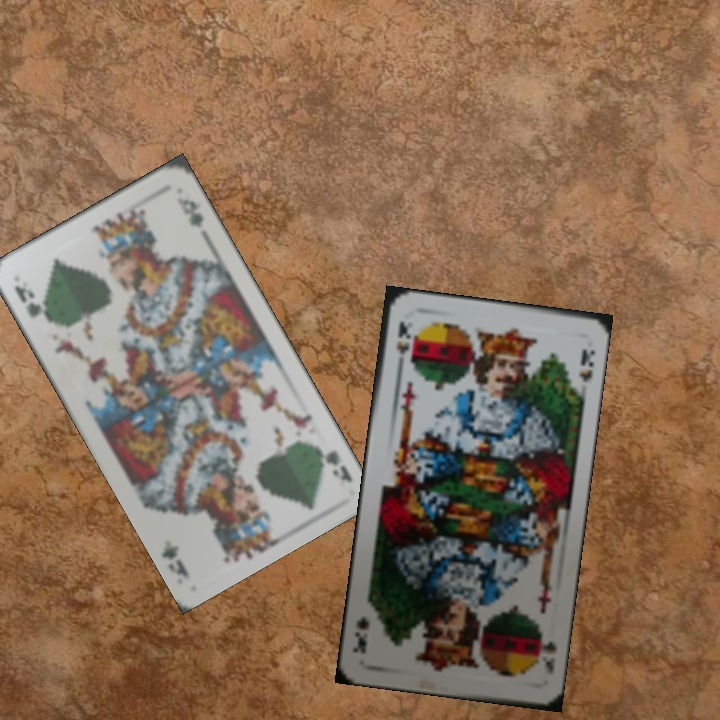GK: (309, 441, 355, 485), (10, 281, 44, 320)
SK: (531, 627, 559, 677), (392, 317, 414, 372)
